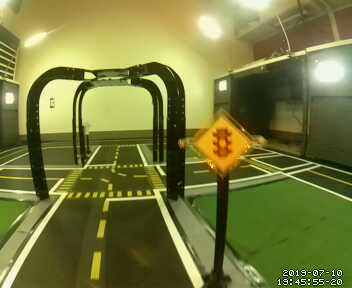Traffic light sign: (192, 115, 250, 174)
